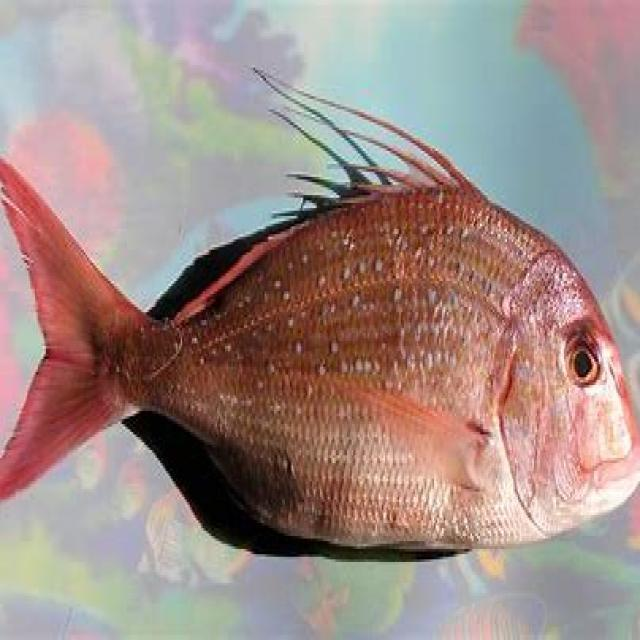EUS Disease: (3, 70, 640, 562)
